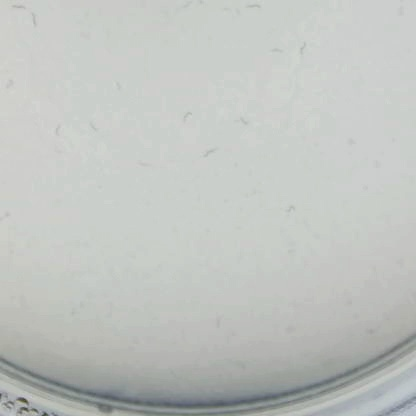worm: (280, 202, 310, 222), (175, 103, 199, 127), (294, 38, 317, 61), (229, 113, 259, 130), (50, 115, 67, 144), (81, 113, 101, 137), (199, 142, 221, 163), (30, 12, 47, 33), (180, 0, 201, 15), (241, 0, 260, 16), (266, 41, 285, 57), (8, 0, 30, 13), (0, 209, 16, 225), (133, 157, 155, 168), (0, 75, 15, 91), (213, 311, 226, 329)
